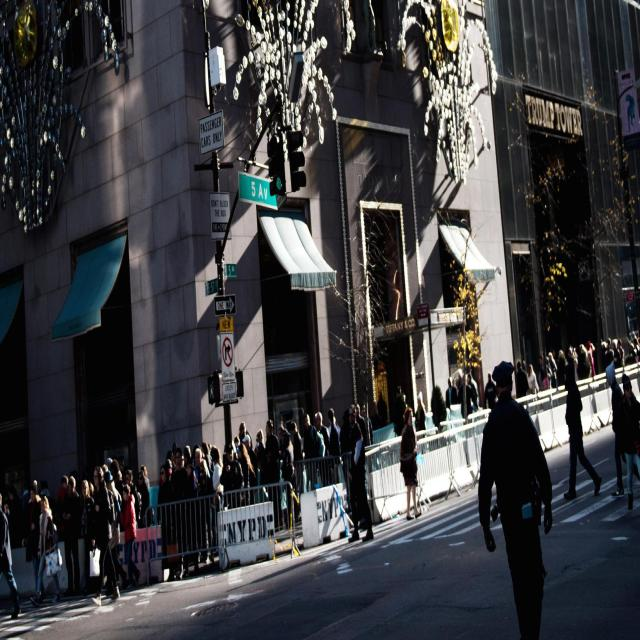body: (476, 356, 559, 640), (225, 541, 353, 598), (562, 360, 602, 501), (604, 362, 640, 500), (90, 466, 120, 608), (0, 598, 98, 640), (347, 403, 375, 544), (30, 492, 63, 606), (21, 483, 46, 601), (619, 372, 640, 512), (101, 469, 124, 593), (220, 442, 246, 544), (399, 406, 422, 521), (76, 479, 98, 596), (0, 490, 19, 622), (158, 458, 178, 577), (66, 476, 84, 600), (264, 418, 282, 534), (194, 448, 212, 562), (237, 442, 256, 542), (159, 554, 223, 583), (120, 483, 137, 592), (201, 441, 217, 555), (303, 413, 325, 493), (60, 474, 74, 599), (197, 458, 214, 560), (354, 402, 371, 502), (183, 456, 201, 550), (599, 330, 640, 366), (254, 428, 267, 531), (211, 447, 224, 548), (281, 430, 294, 530), (314, 412, 331, 487), (327, 407, 341, 486), (290, 421, 304, 499), (4, 485, 21, 549), (125, 468, 143, 528), (339, 403, 351, 489), (170, 447, 188, 502), (360, 405, 374, 474), (136, 468, 150, 530), (393, 383, 409, 437), (270, 401, 308, 422), (102, 454, 124, 486), (568, 346, 581, 399), (376, 518, 410, 538), (465, 373, 478, 419), (515, 361, 529, 399), (466, 374, 474, 439), (376, 387, 389, 426), (484, 373, 497, 410), (548, 352, 559, 394), (526, 363, 540, 395), (445, 376, 458, 410), (238, 421, 253, 450), (450, 376, 459, 424), (586, 340, 596, 382), (415, 394, 426, 432), (580, 339, 588, 380), (172, 441, 200, 452), (140, 464, 150, 491), (166, 451, 174, 476), (558, 348, 569, 366), (278, 424, 285, 452), (22, 490, 30, 514), (88, 474, 96, 497), (546, 363, 553, 389), (233, 432, 241, 452), (334, 417, 342, 434), (635, 367, 640, 391), (590, 344, 597, 361), (247, 429, 253, 448), (178, 452, 185, 468), (207, 442, 216, 451)
